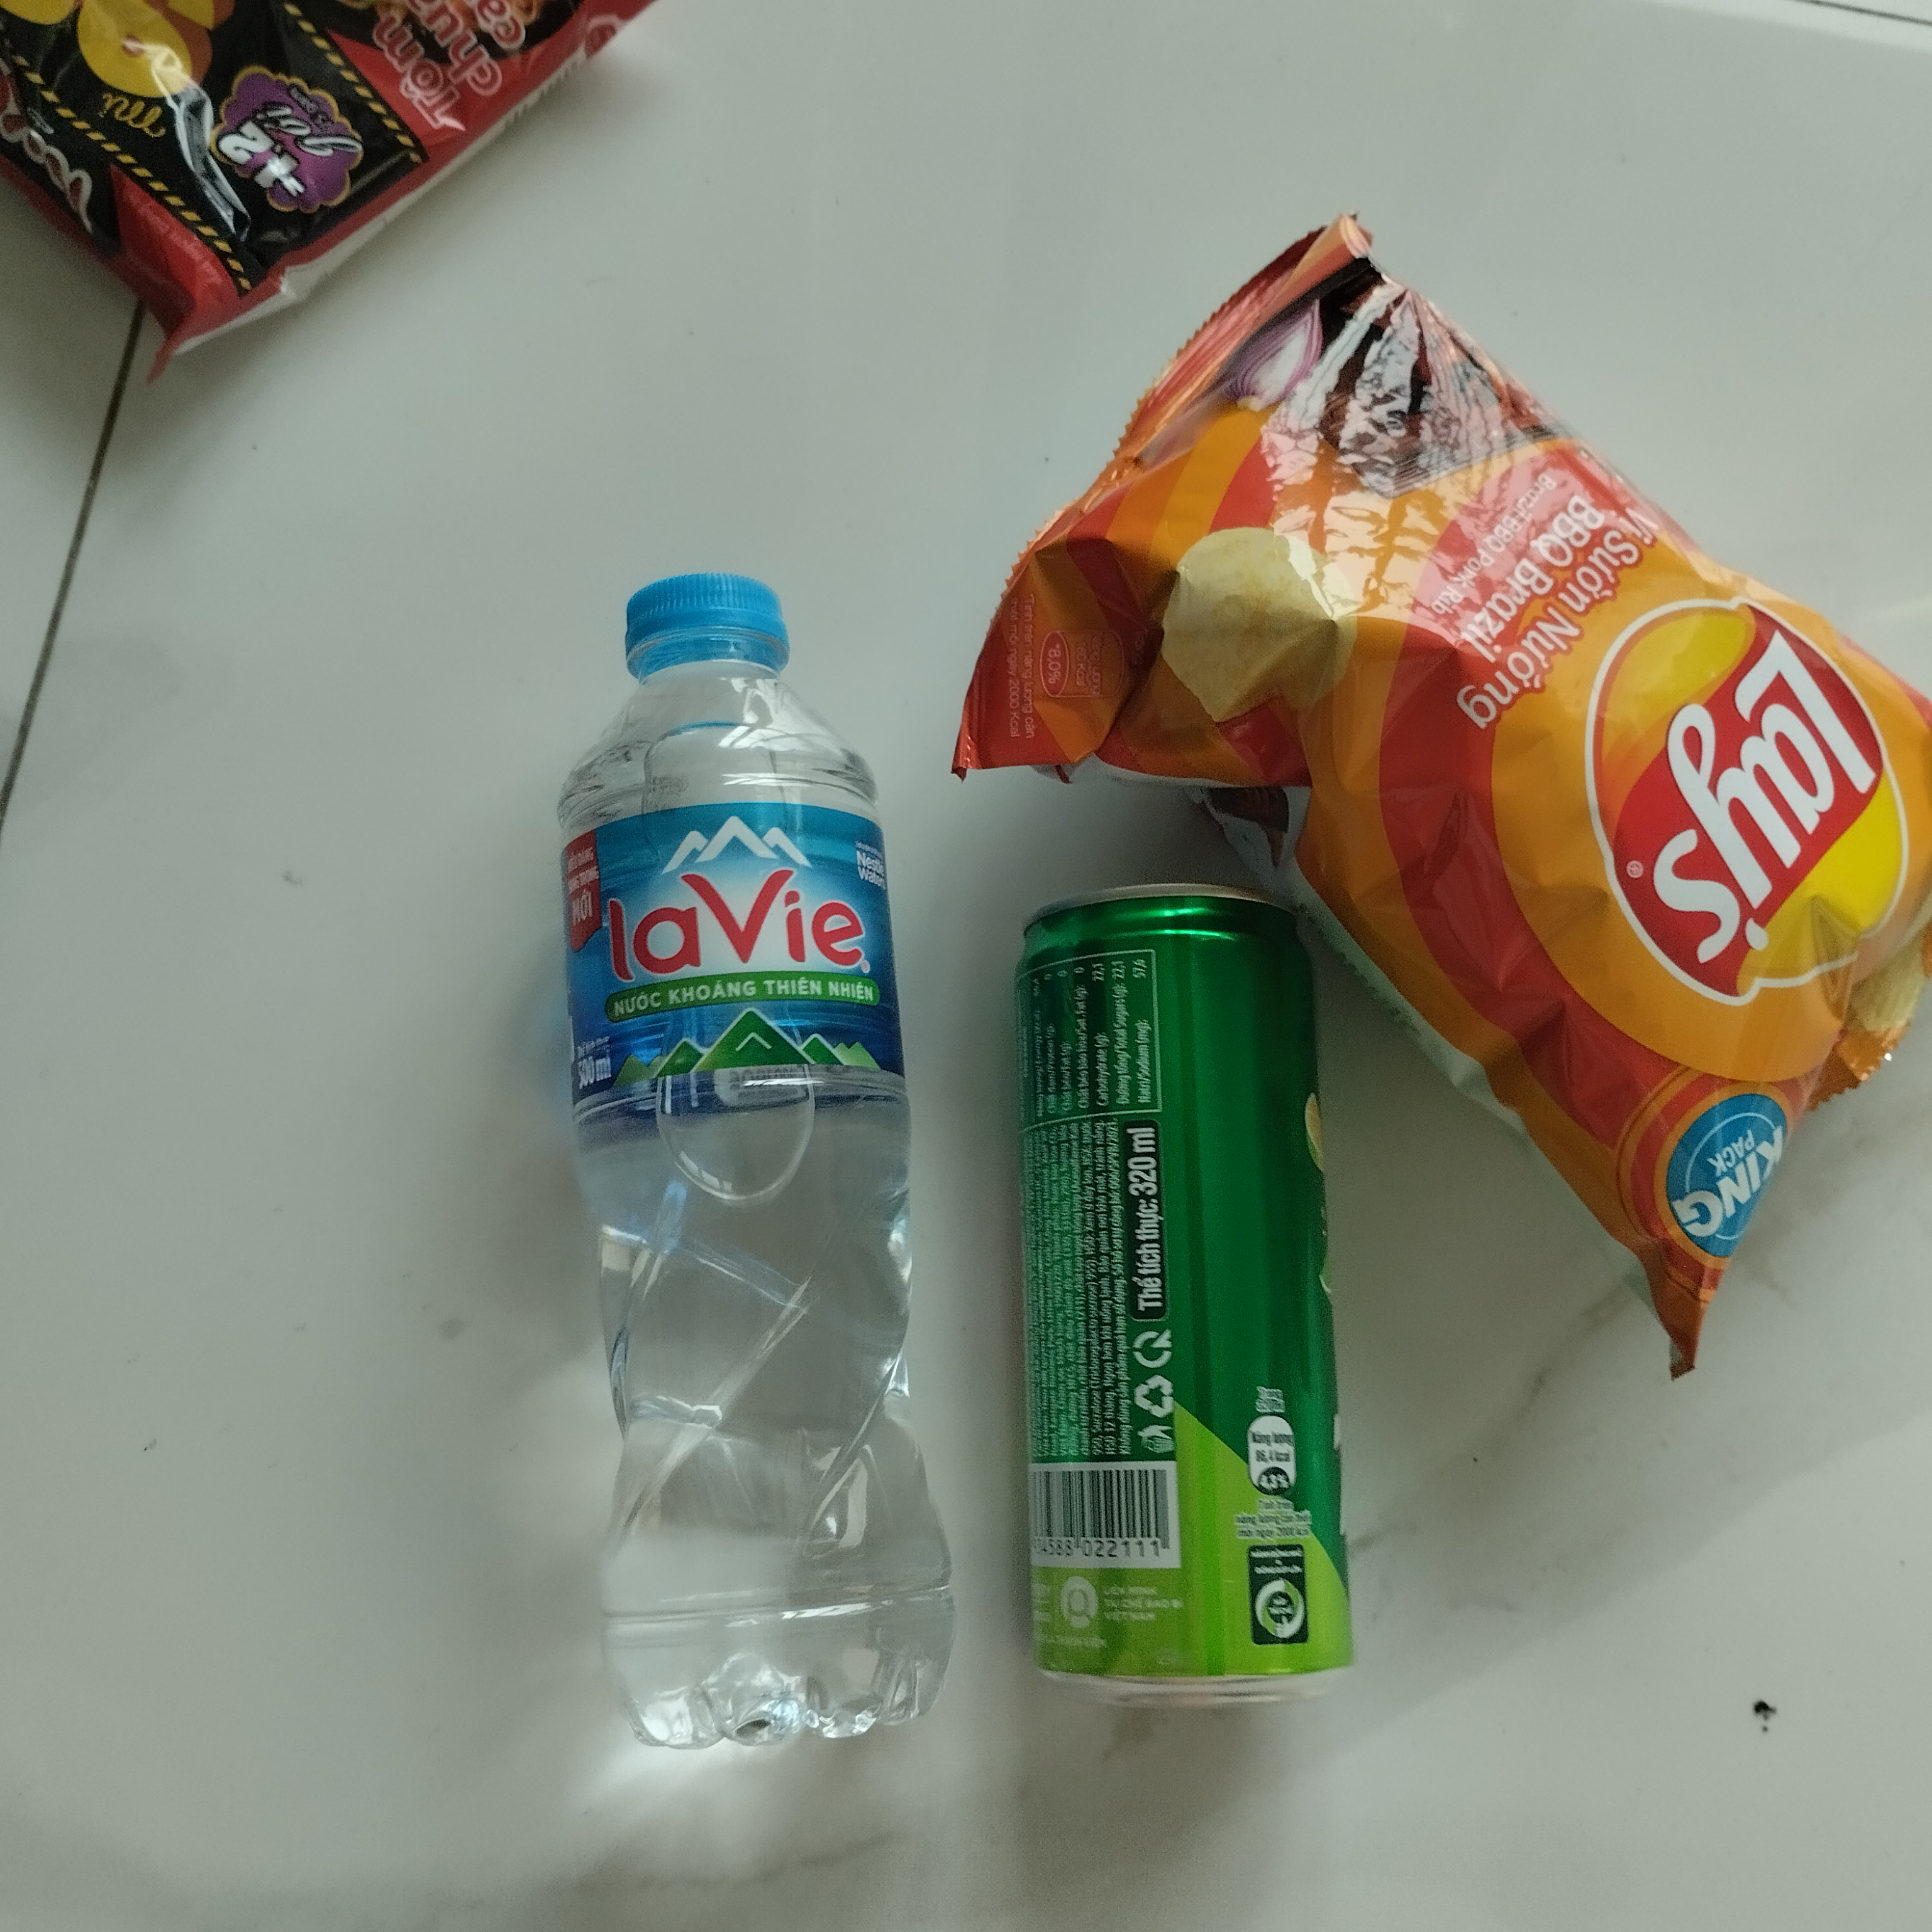7up: (1001, 876, 1361, 1714)
Lavie: (550, 570, 968, 1766)
Lays: (945, 205, 1930, 1382)
